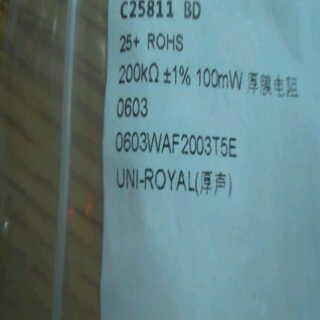200kR: (112, 60, 160, 84)
